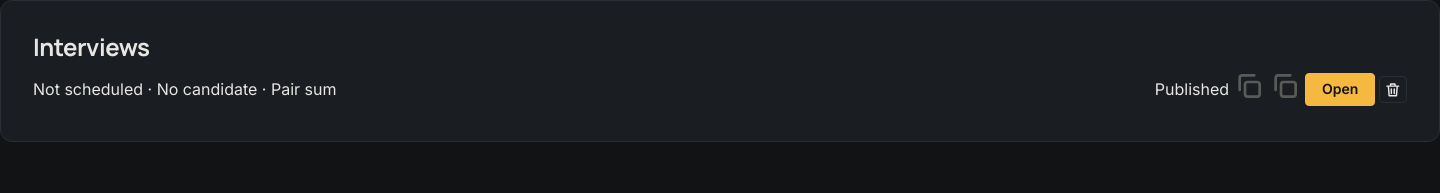
Test case: InterviewsCardComponent delete › an unreachable server keeps the row and says so
Click the button named "Delete interview": (1393, 90) [1379,76,1407,103]
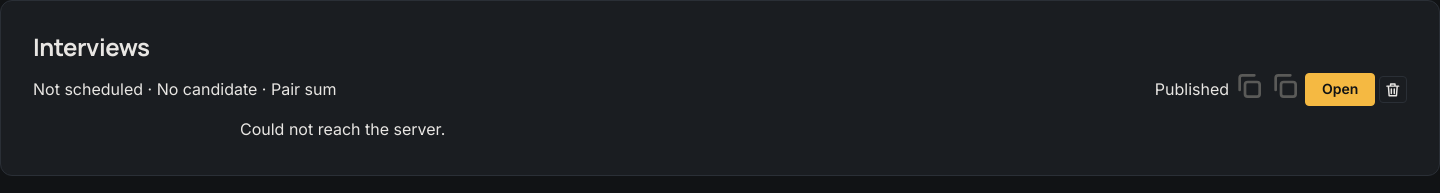
Expected: the number of list items with class "interviews__row" is 1, [33,70,1407,109]
Now the text "Could not reach the server." is shown, box [240,119,445,139]
